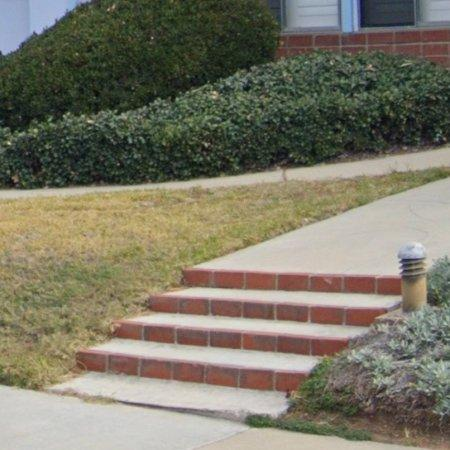stairs: (53, 263, 401, 420)
